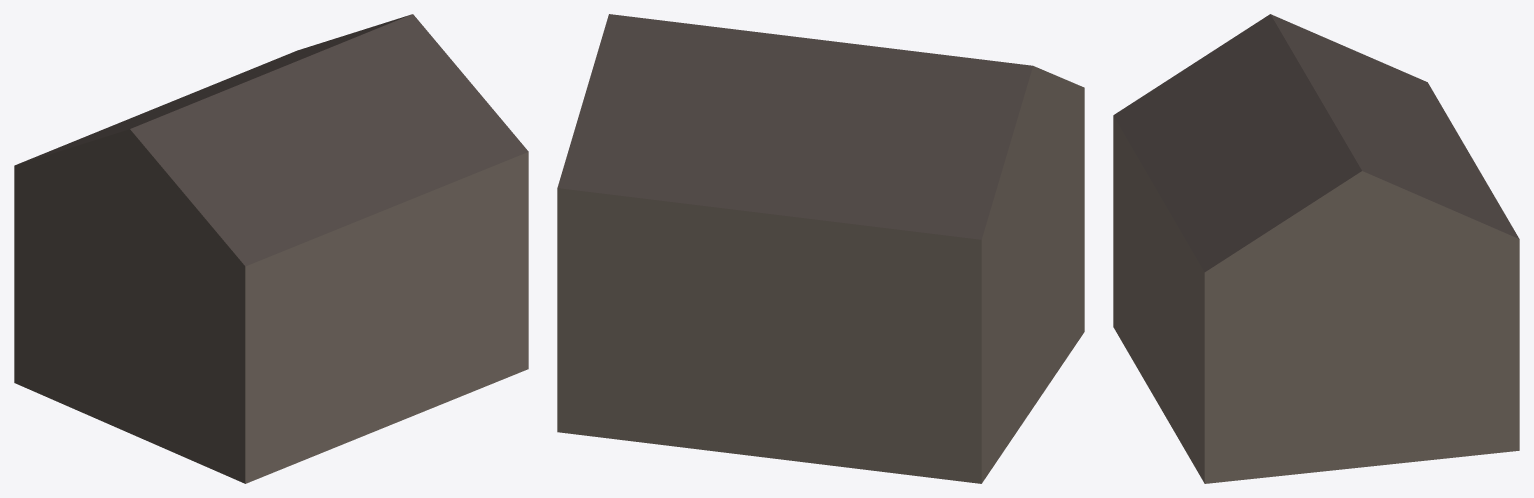
3 views of the same model, side by side, from view 1: azimuth 30°, elevation 25°; view 2: azimuth 150°, elevation 25°; view 3: azimuth 270°, elevation 25° (orthographic). The views are drawn at different scales.
Parts seen in each view (by area): view 1: HP-w389702083; view 2: HP-w389702083; view 3: HP-w389702083.
Boxes of the visible parts, x1,y1,x2,y2 form: HP-w389702083: (14, 14, 528, 483); HP-w389702083: (557, 14, 1084, 483); HP-w389702083: (1113, 14, 1519, 483).
Size of the model in its own units: 11.57 by 8.41 by 10.44.
